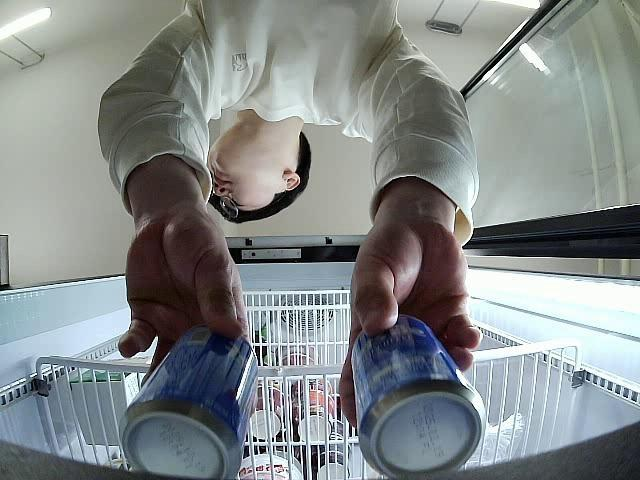15_letsbe: (350, 314, 486, 480), (120, 321, 260, 480)
